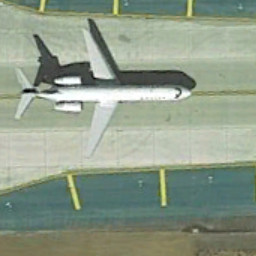Airplane: (9, 16, 201, 166)
